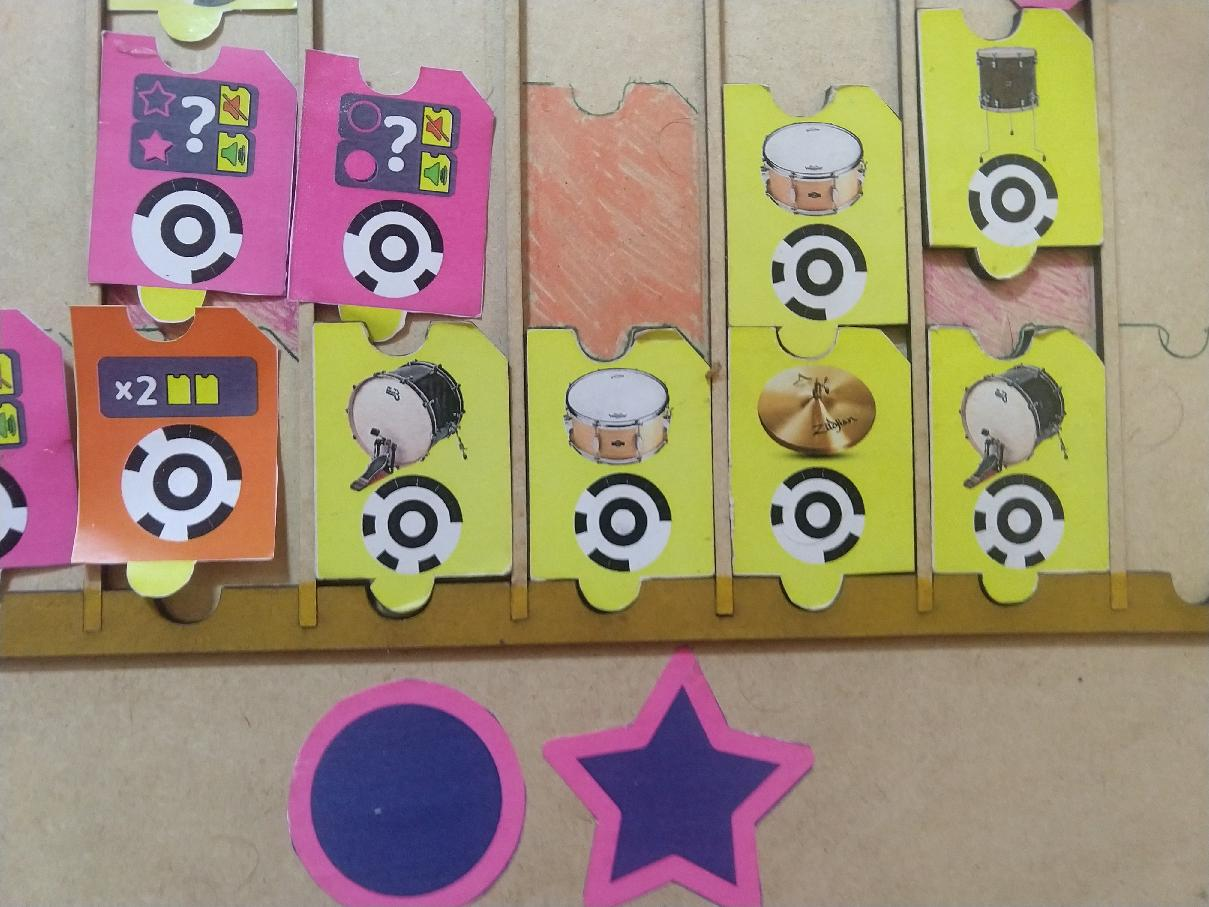bumbo: (308, 319, 517, 616), (922, 322, 1111, 608)
